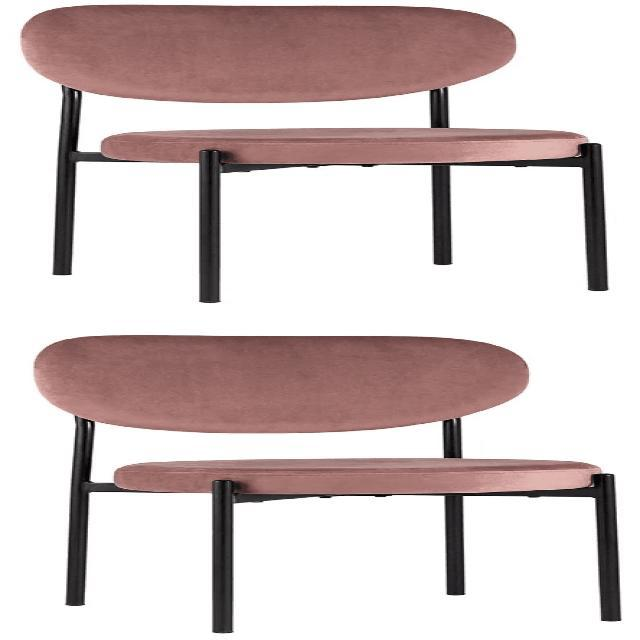chair: (0, 331, 640, 640), (0, 0, 640, 308), (17, 1, 640, 166), (3, 334, 617, 496)
